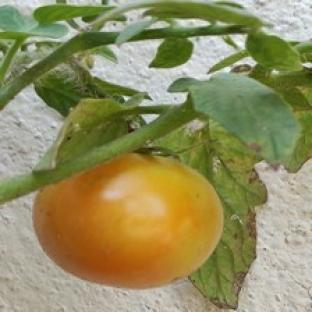Tomato: (34, 154, 222, 288)
